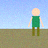person: (28, 8, 43, 36)
